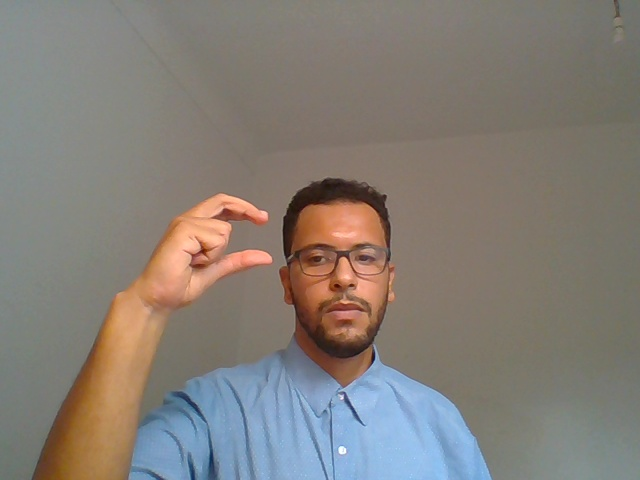no: (69, 152, 279, 421)
